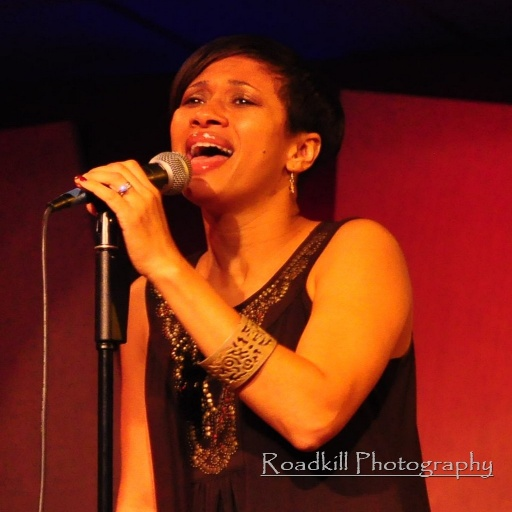hand: (72, 155, 187, 257)
